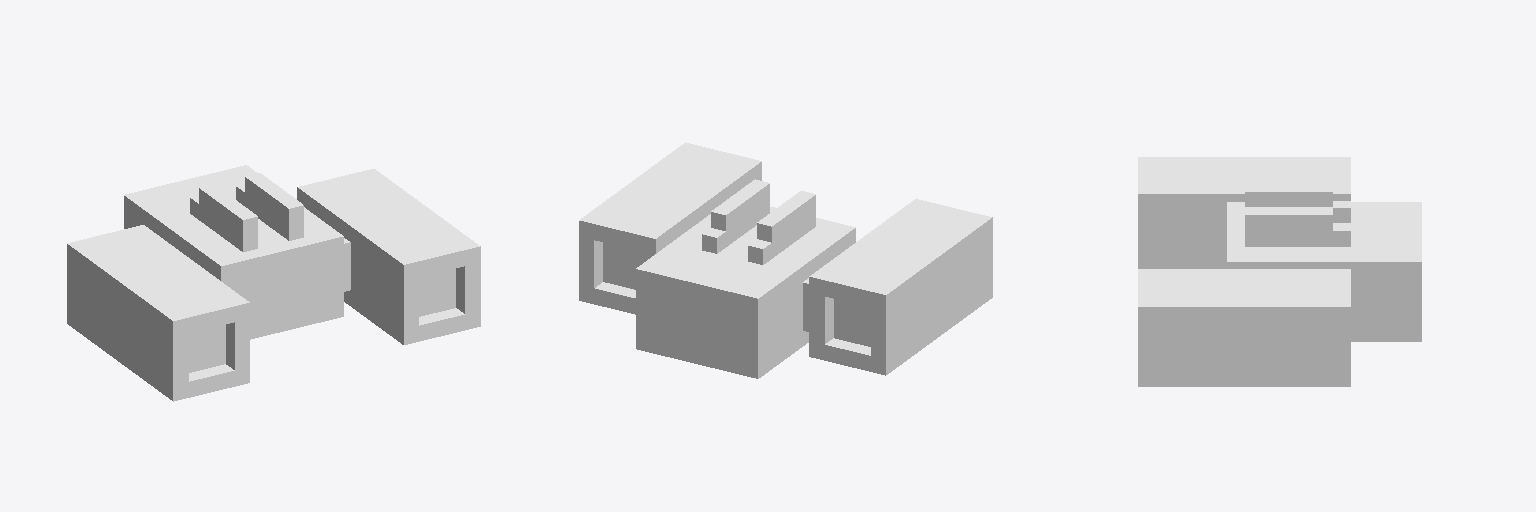
File: Enemy1.1.obj
The picture shows the model from 3 angles: view 1: azimuth 30°, elevation 25°; view 2: azimuth 150°, elevation 25°; view 3: azimuth 270°, elevation 25°; orthographic projection.
Size of the model in its own units: 20 by 7 by 16.